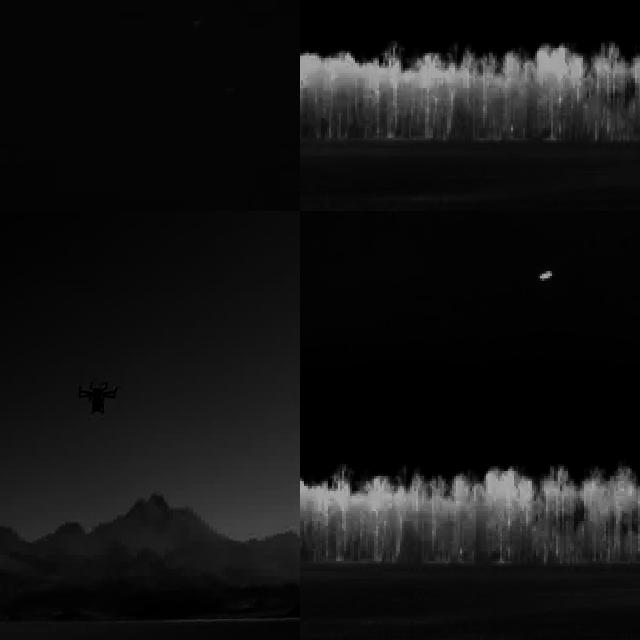0: (184, 10, 212, 37), (220, 78, 244, 108)
1: (530, 264, 566, 294)
drone: (77, 376, 121, 421)
